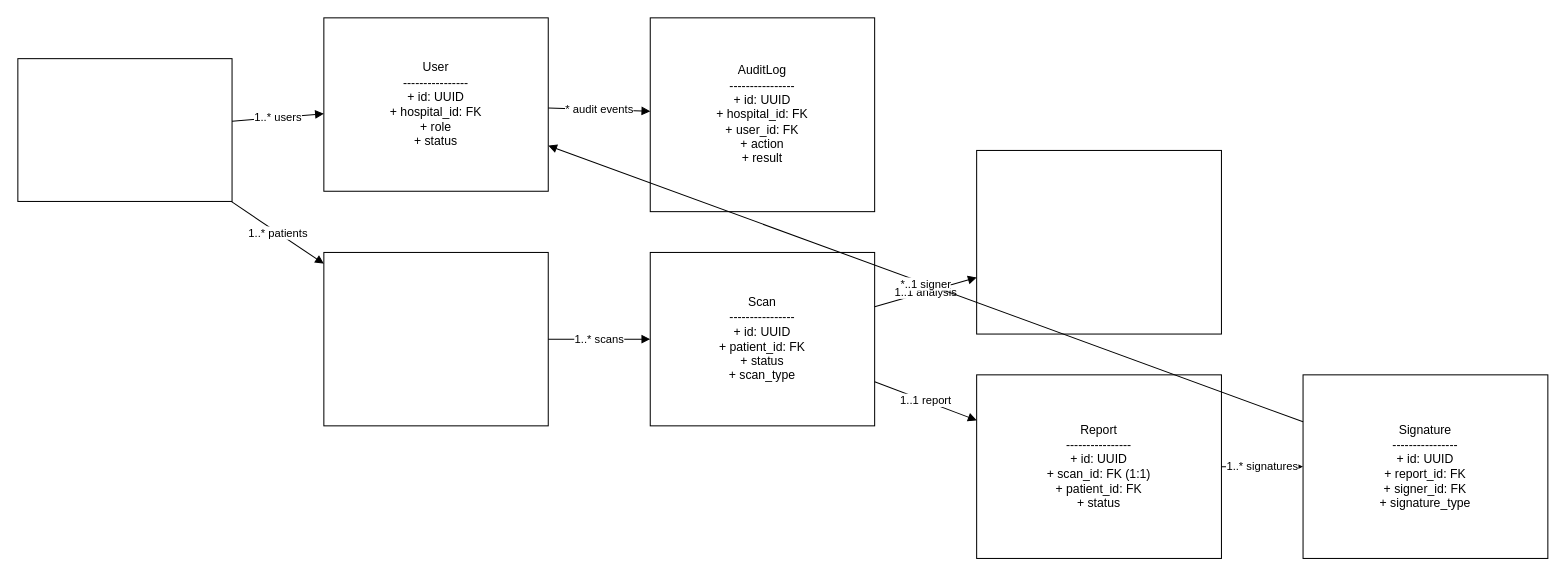
Some shapes in this 1566 by 576 pixel diagram are drawn without their labels. The centre of each missing label's shape, as x and y in pixels:
"AiAnalysis ---------------- + id: UUID + scan_id: FK (1:1) + label + confidence" belongs at pixel 1098 241.
"Hospital ---------------- + id: UUID + name + registration_no" belongs at pixel 124 129.
"Patient ---------------- + id: UUID + hospital_id: FK + mrn + priority" belongs at pixel 435 338.
